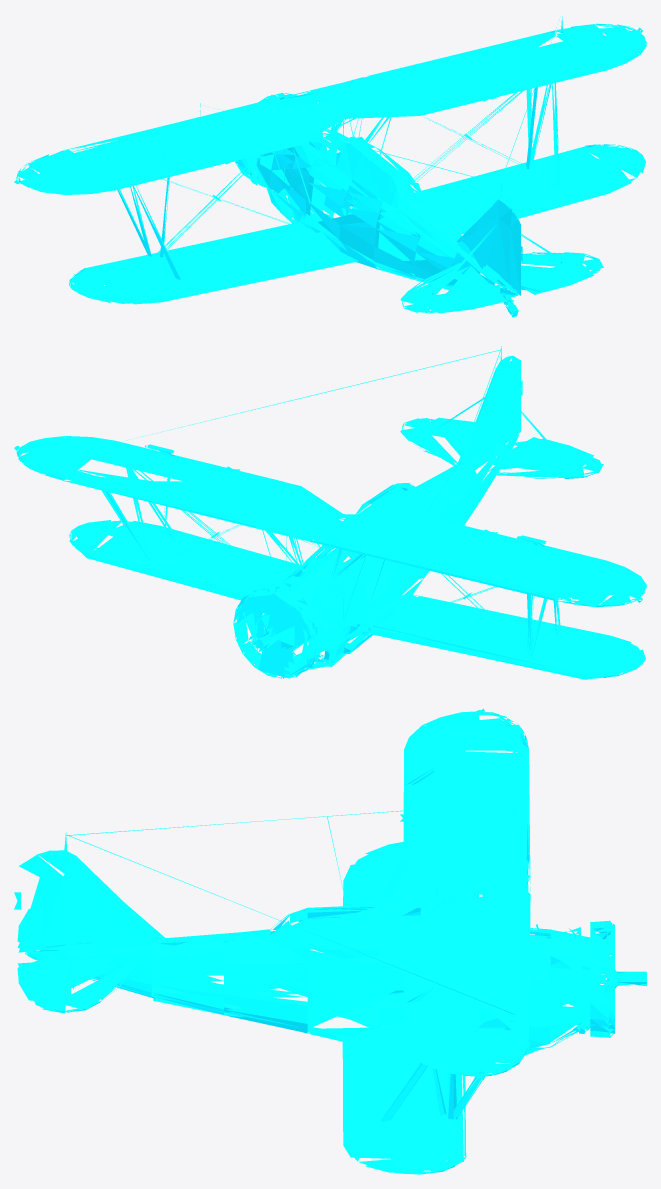
Rendered from PAAF007.glb.
The picture shows the model from 3 angles, top to bottom: view 1: azimuth 30°, elevation 25°; view 2: azimuth 150°, elevation 25°; view 3: azimuth 270°, elevation 25°; orthographic projection. The views are drawn at different scales.
Visible parts, largest first — view 1: misc; view 2: misc; view 3: misc.
Boxes of the visible parts, bbox=[...] form: misc: bbox=[14, 16, 646, 317]; misc: bbox=[14, 346, 646, 679]; misc: bbox=[14, 708, 646, 1174].
Bounding box in the file's own units: 0.7063 × 0.1963 × 0.5124.
